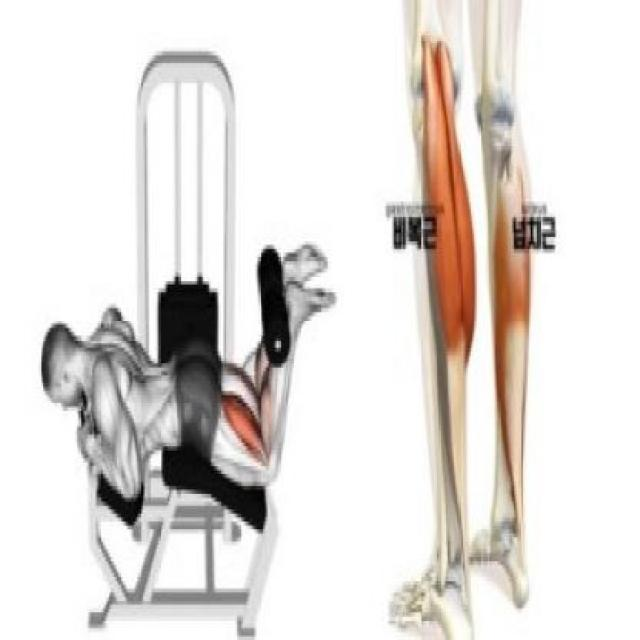reg curl machine: (39, 43, 338, 640)
